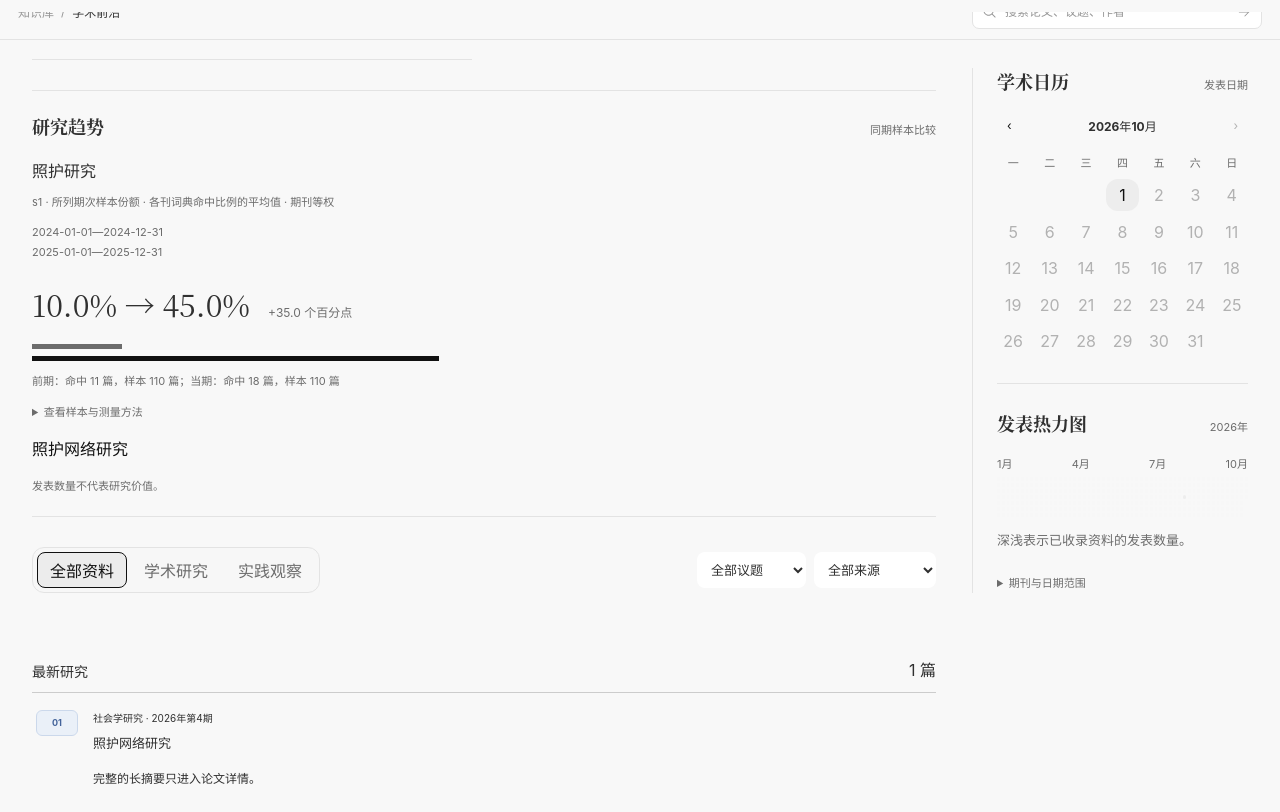
Test: keeps journal-weighted shares and their delta separate from pooled sample counts
(page scrolled)
Expected: the text "10.0% → 45.0%" is shown, [32,282,250,326]
Expected: the text "+35.0 个百分点" is shown, [268,303,352,320]
Step 1. Click the heading "查看样本与测量方法" → (93, 412), box [44,405,143,419]
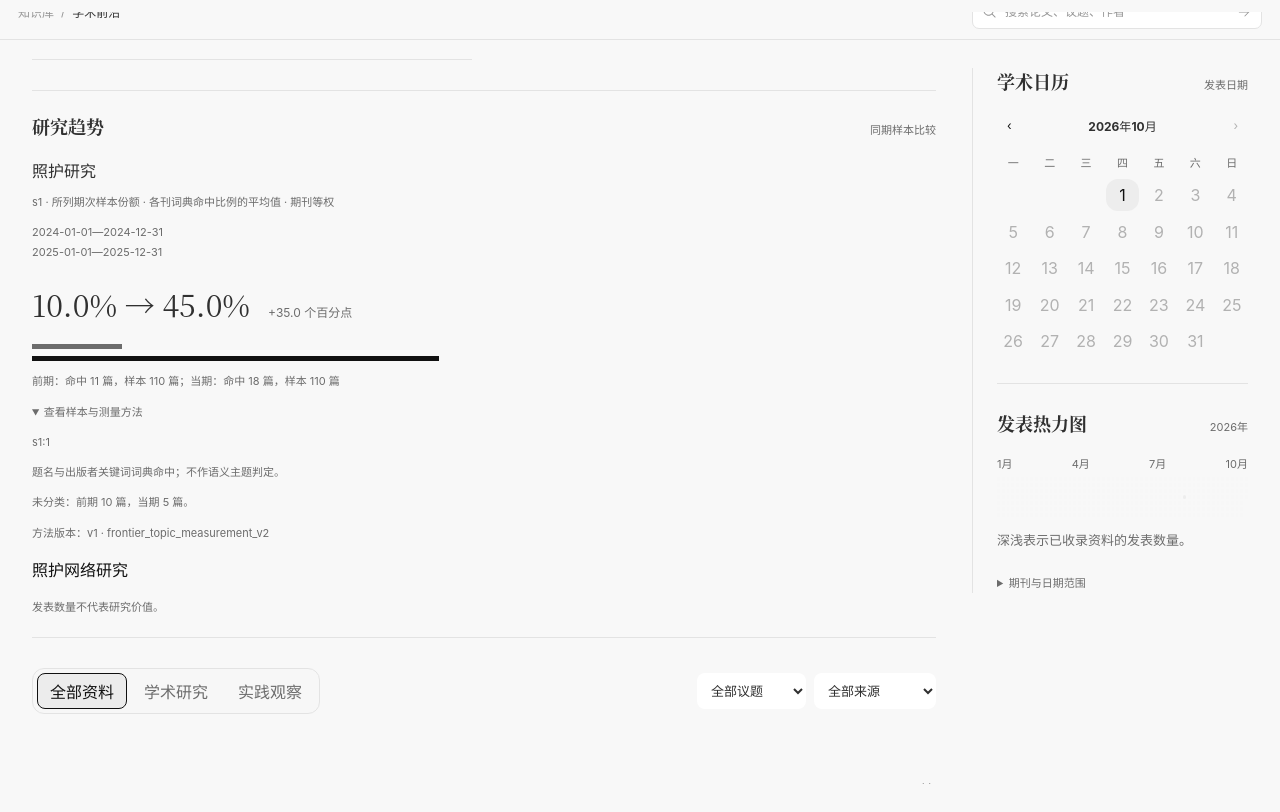
Expected: the text "未分类：前期 10 篇，当期 5 篇。" is shown, [32,495,194,509]
Expected: the text "方法版本：v1 · frontier_topic_measurement_v2" is shown, [32,526,269,540]
